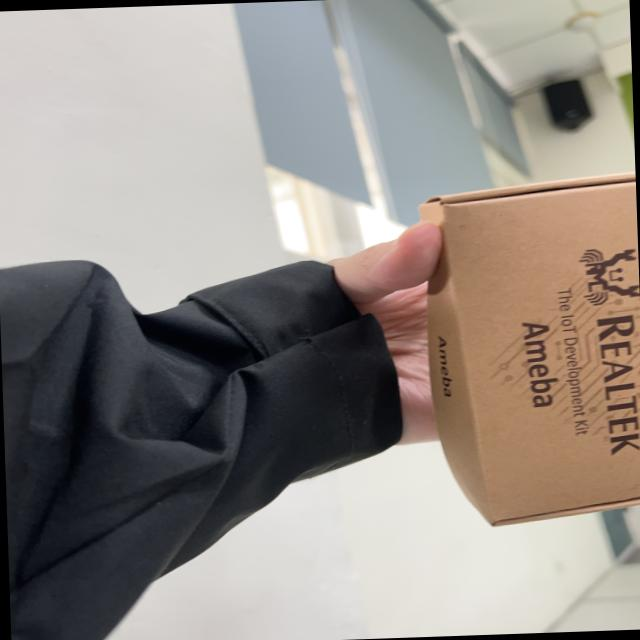box: (388, 167, 640, 537)
